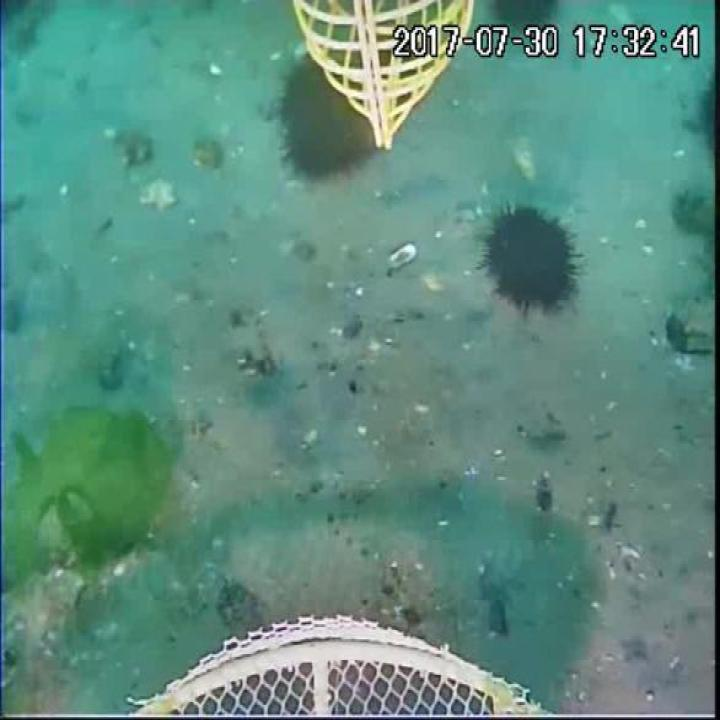echinus: (480, 195, 586, 323), (275, 58, 376, 178), (485, 0, 558, 38)
